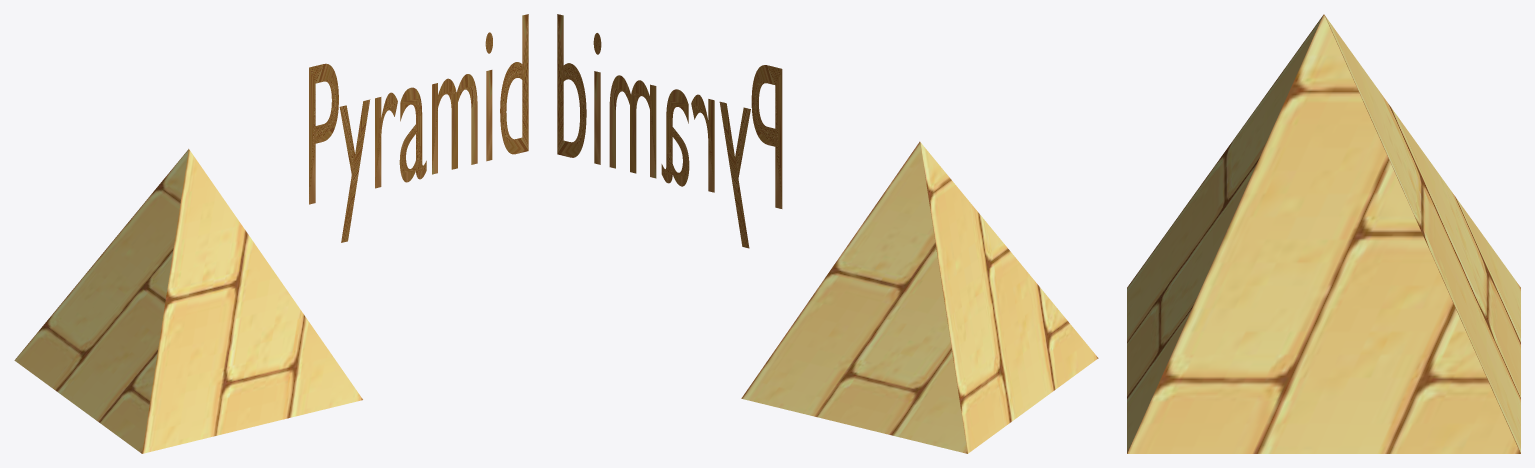
Rendered from pyramidtexture.gltf.
3 renders of one model, left to right at view 1: azimuth 30°, elevation 25°; view 2: azimuth 150°, elevation 25°; view 3: azimuth 270°, elevation 25°, orthographic. The views are drawn at different scales.
Parts seen in each view (by area): view 1: Cube, Text; view 2: Cube, Text; view 3: Cube.
Boxes of the visible parts, x1,y1,x2,y2 form: Cube: (14,149,362,453); Text: (309,14,528,242); Cube: (741,141,1098,453); Text: (557,14,782,248); Cube: (1127,14,1520,453).
Size of the model in its own units: 103 by 59.71 by 50.
2 materials, 2 textured.
